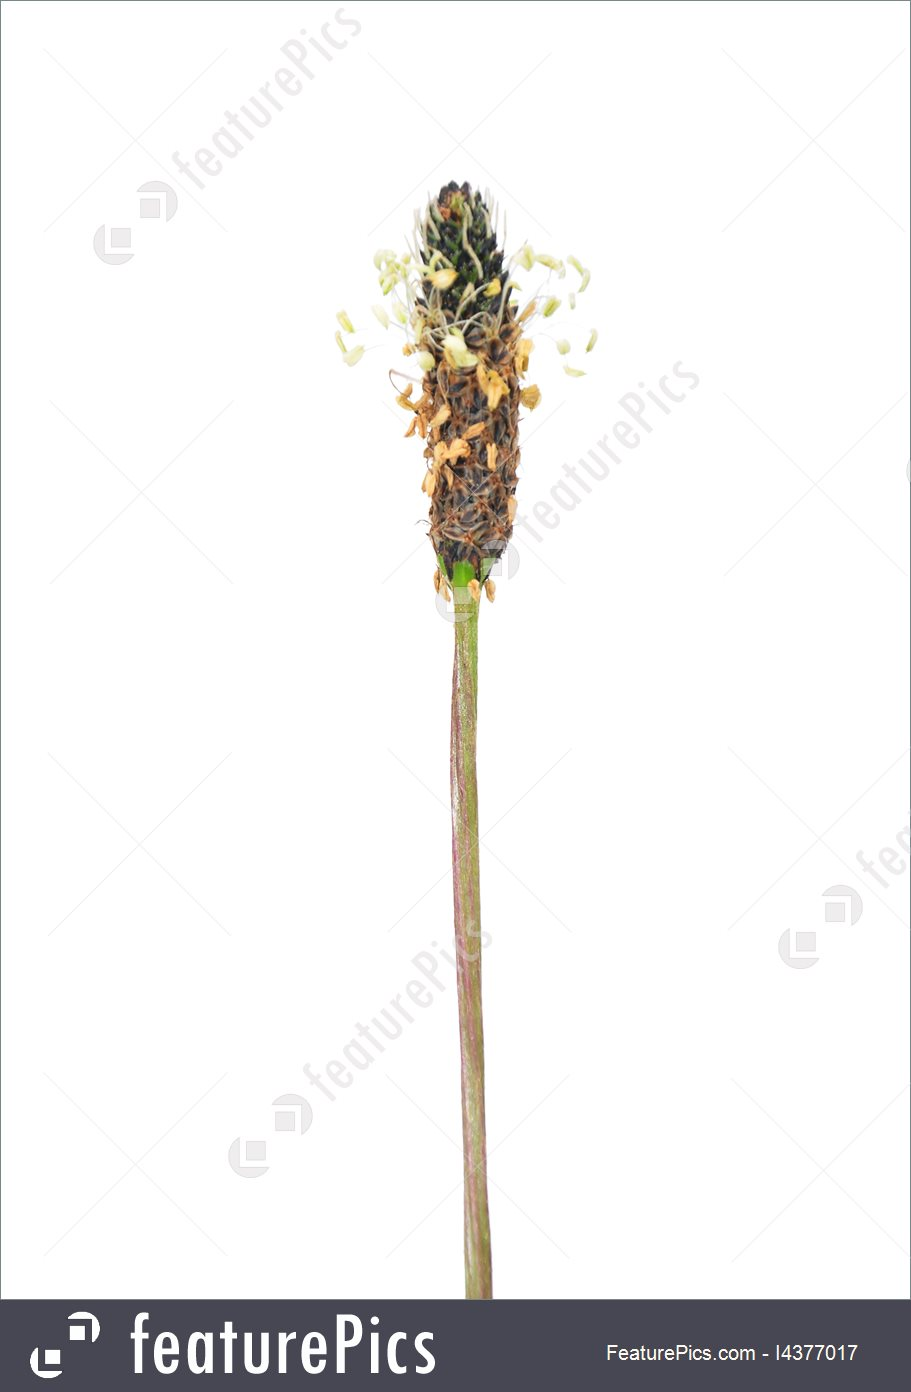buckhorn plantain: (355, 182, 623, 809)
